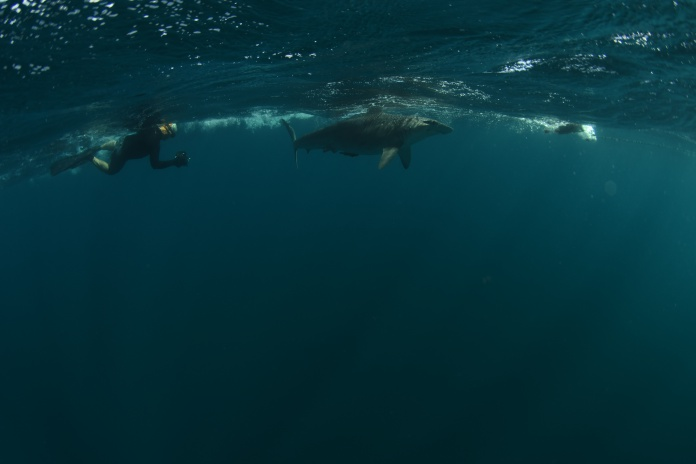Hammer: (251, 87, 465, 195)
